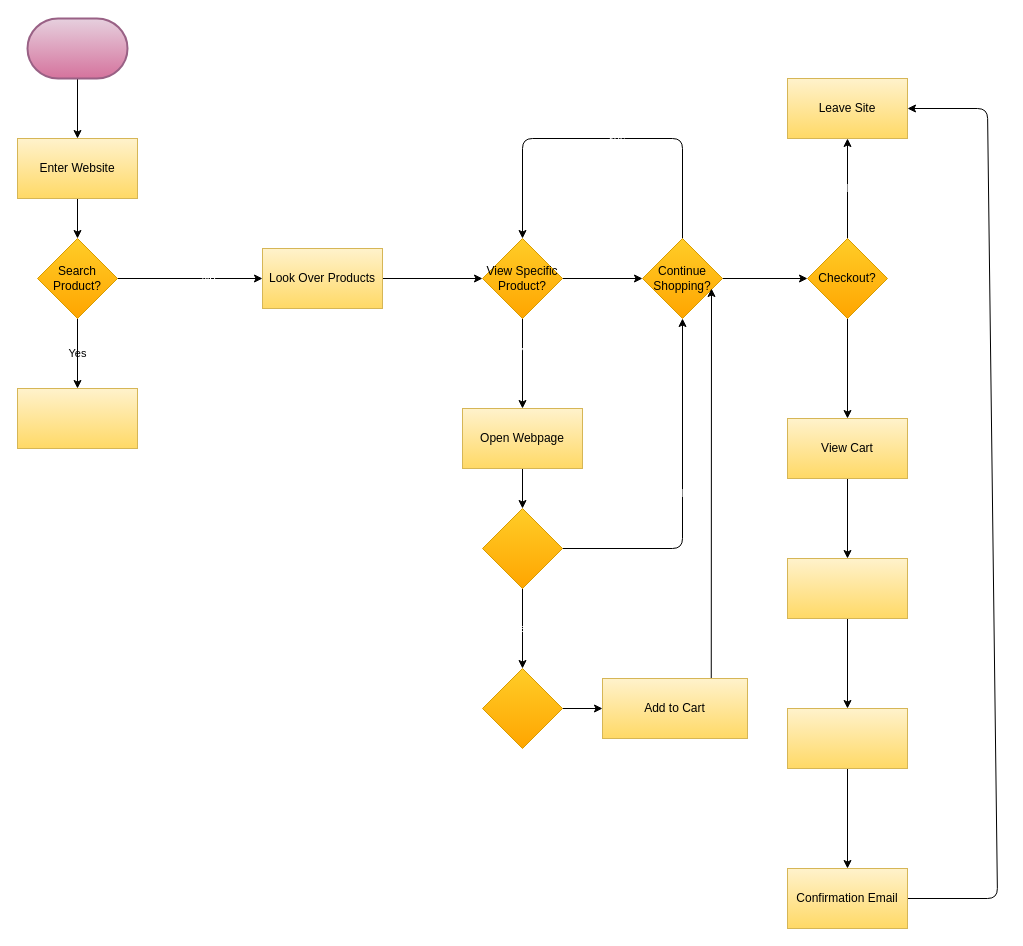
This 1023x946 diagram has some shape labels left out. The box of each missing label's shape, as (x1, y1, x2, y2) in pixels:
Add to Cart?: (482, 508, 562, 588)
Confirm?: (482, 668, 562, 748)
Insert Payment: (786, 708, 908, 768)
Provide Input: (16, 388, 138, 448)
Start: (26, 17, 128, 79)
View Payment: (786, 558, 908, 618)
